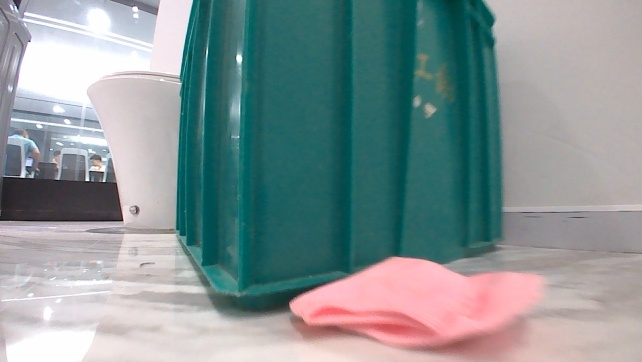socks: (285, 251, 546, 355)
toilet: (84, 65, 185, 234)
